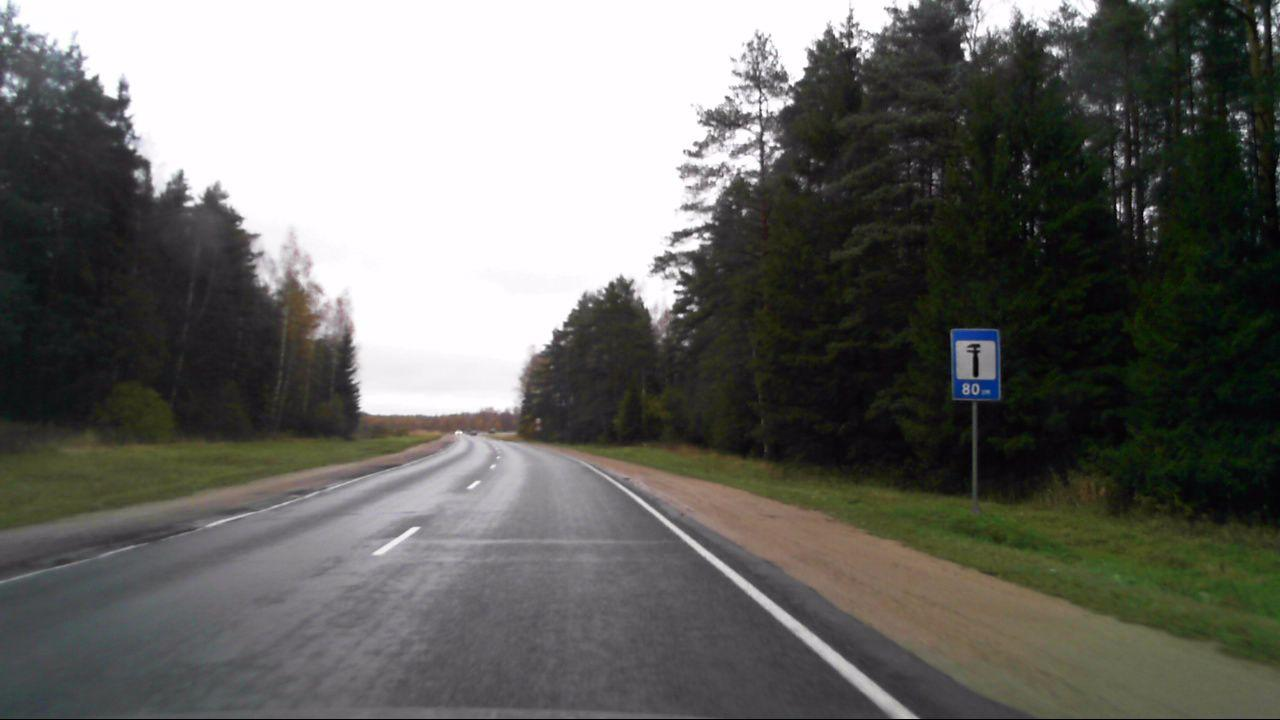7_4: (949, 327, 1002, 401)
